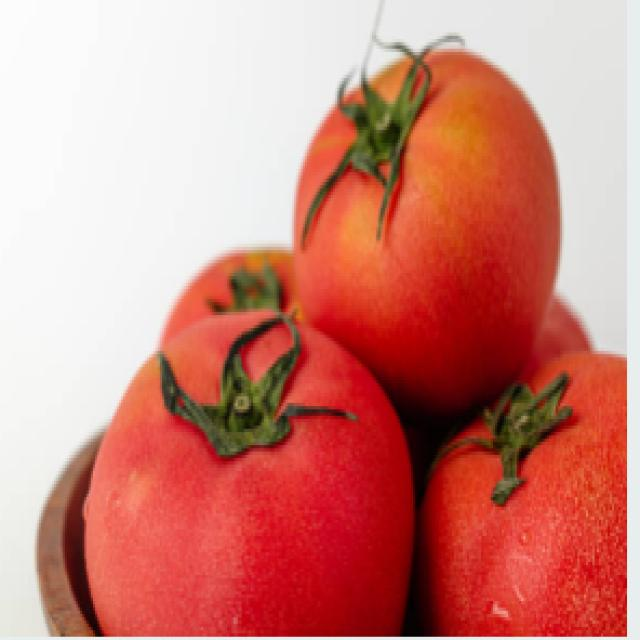Tomato: (73, 304, 393, 640), (284, 25, 565, 392)
